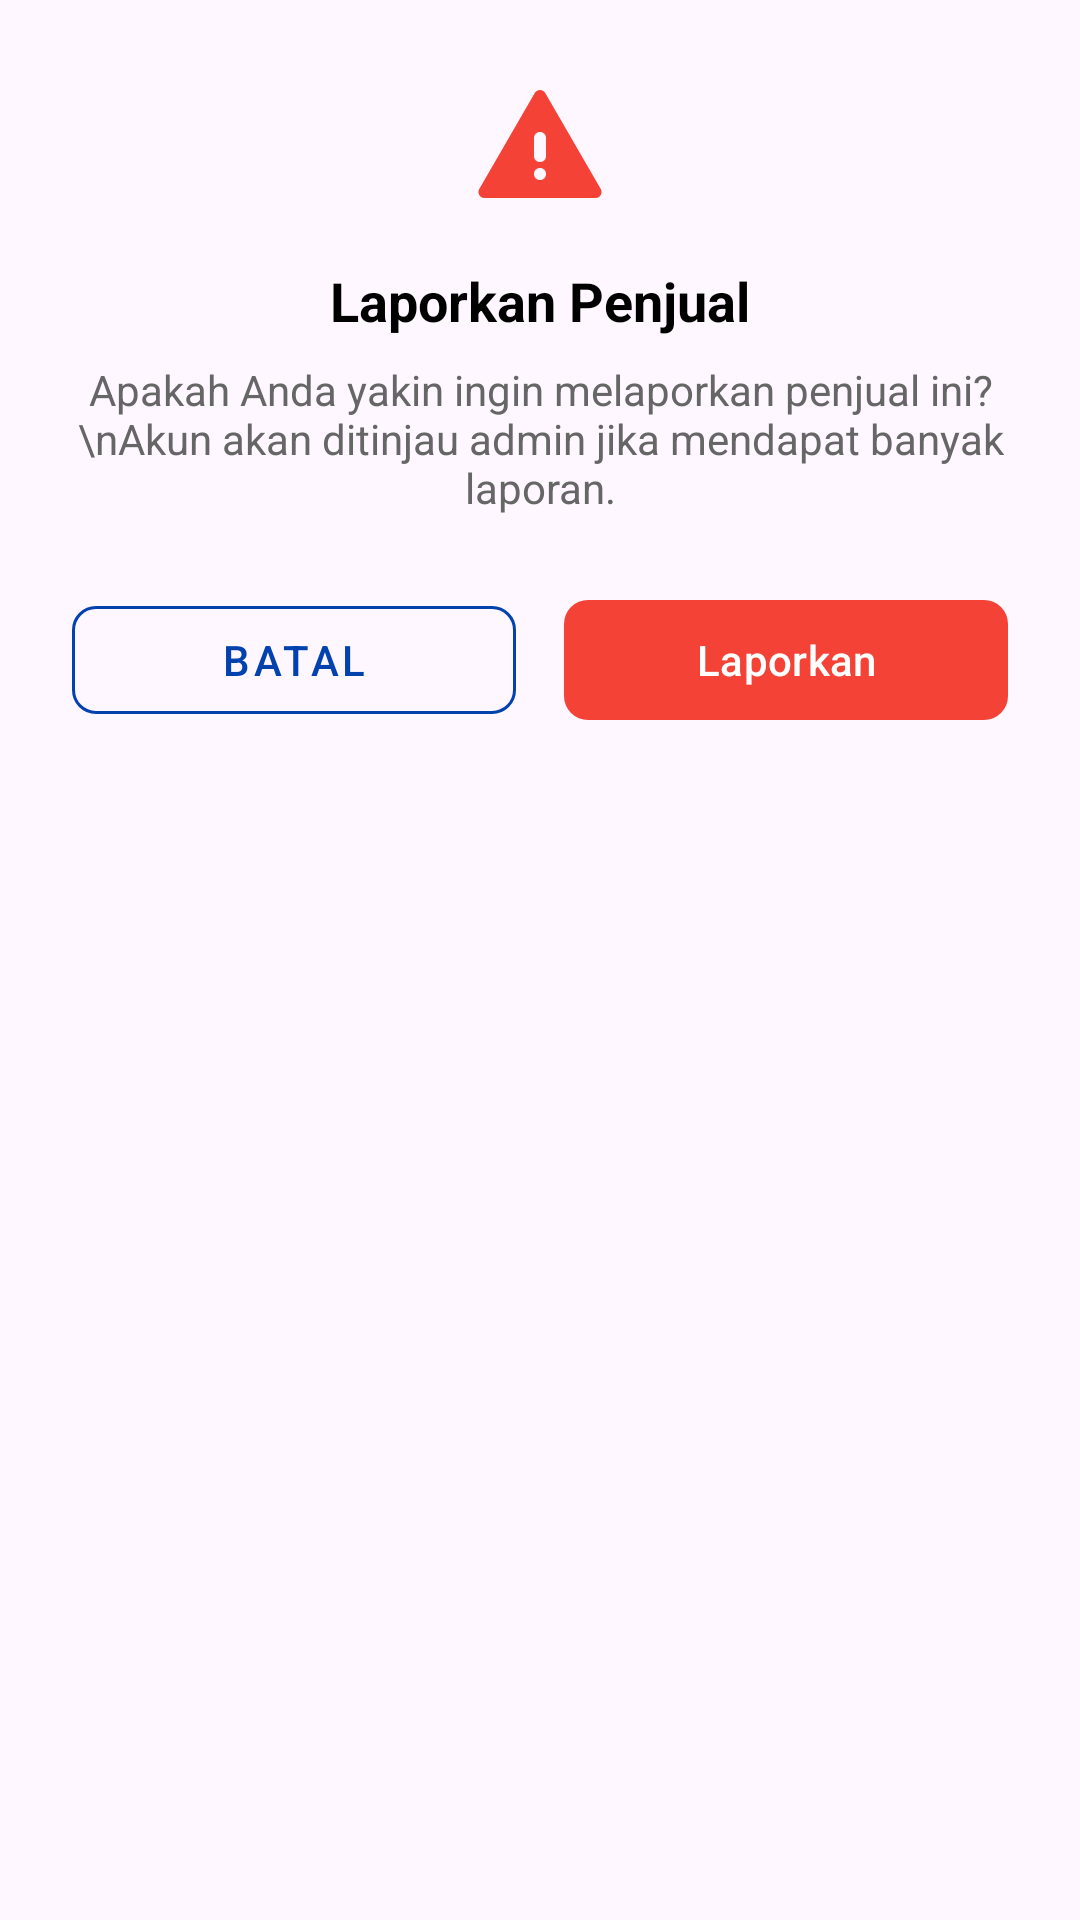

Where icons sit on this 1080px x 1920px app screen, as (x1, y1, x2, y2):
report: (478, 90, 602, 198)
